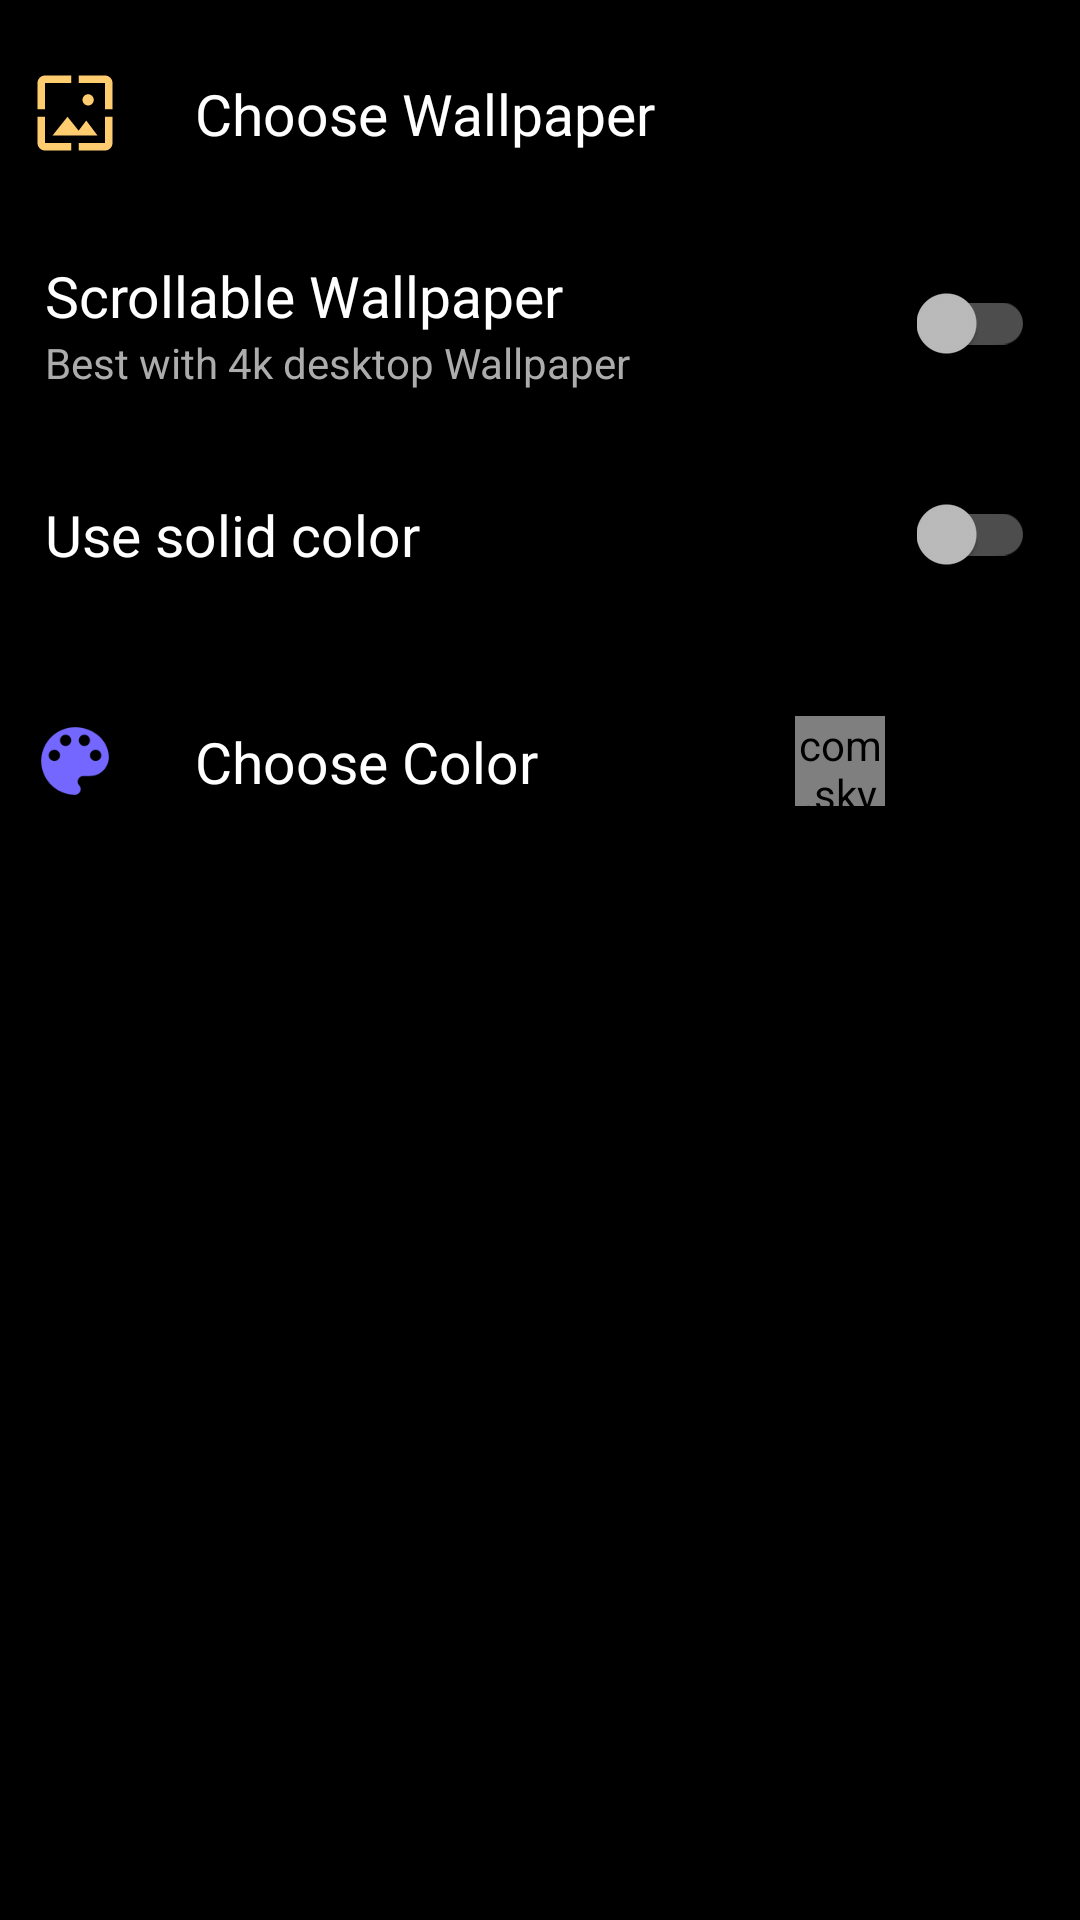

Where icons sit on this 1080×1920 app screen, as (x1, y1, x2, y2):
palette: (41, 727, 109, 795)
